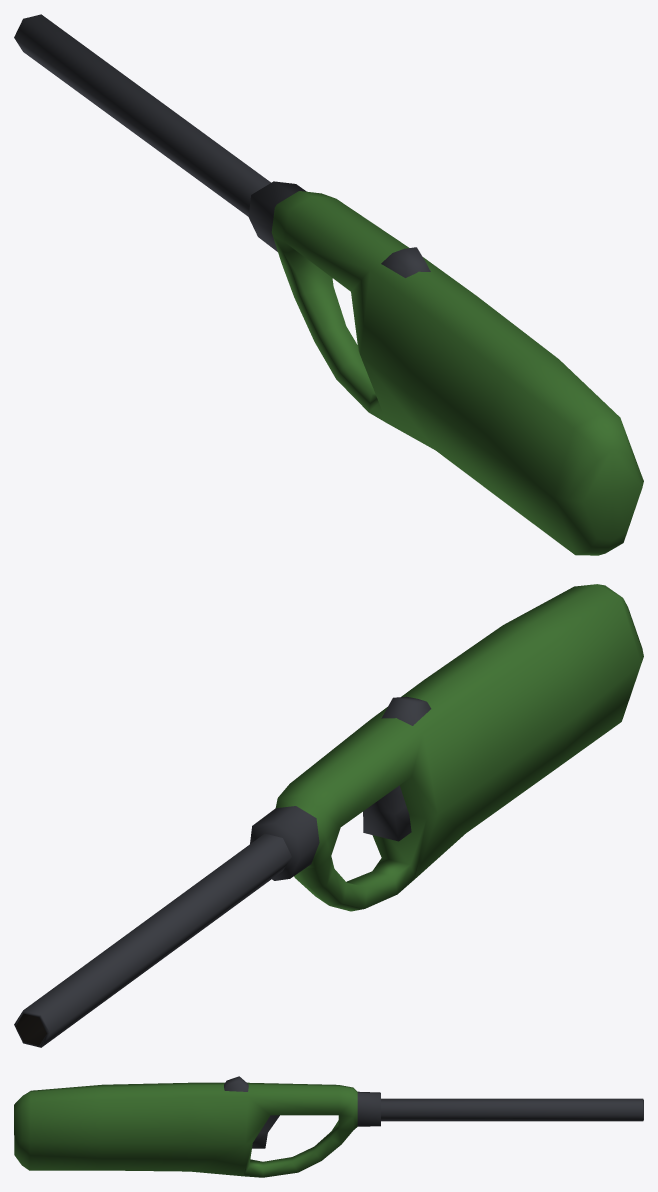
File: Lighter_Candle_2.FBX
3 views of the same model, one above another, from view 1: azimuth 30°, elevation 25°; view 2: azimuth 150°, elevation 25°; view 3: azimuth 270°, elevation 25° (orthographic). The views are drawn at different scales.
Visible parts, largest first — view 1: Lighter_Candle001; view 2: Lighter_Candle001; view 3: Lighter_Candle001.
Part boxes in pixels (left/top/right/bottom): Lighter_Candle001: left=14, top=14, right=643, bottom=555; Lighter_Candle001: left=14, top=584, right=643, bottom=1047; Lighter_Candle001: left=14, top=1076, right=643, bottom=1177.
Size of the model in its own units: 4.42 by 7.92 by 45.89.
Materials: 1 (1 with a texture image).
